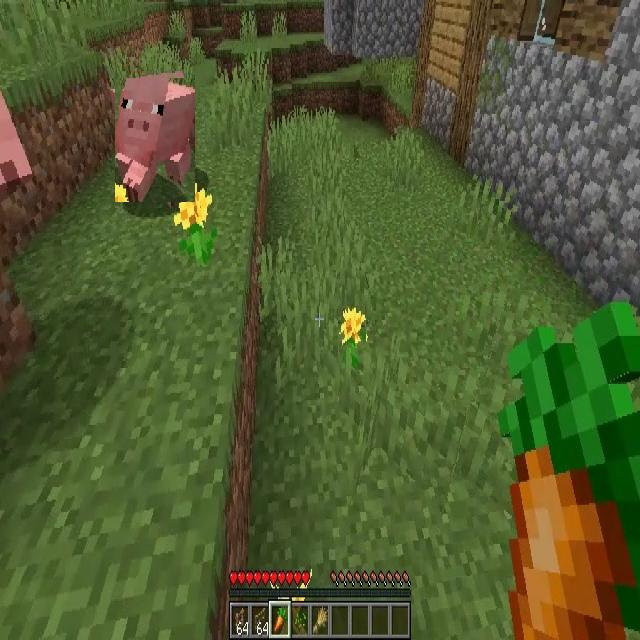flower: (175, 186, 212, 266), (338, 306, 366, 348)
pig: (115, 78, 195, 202)
